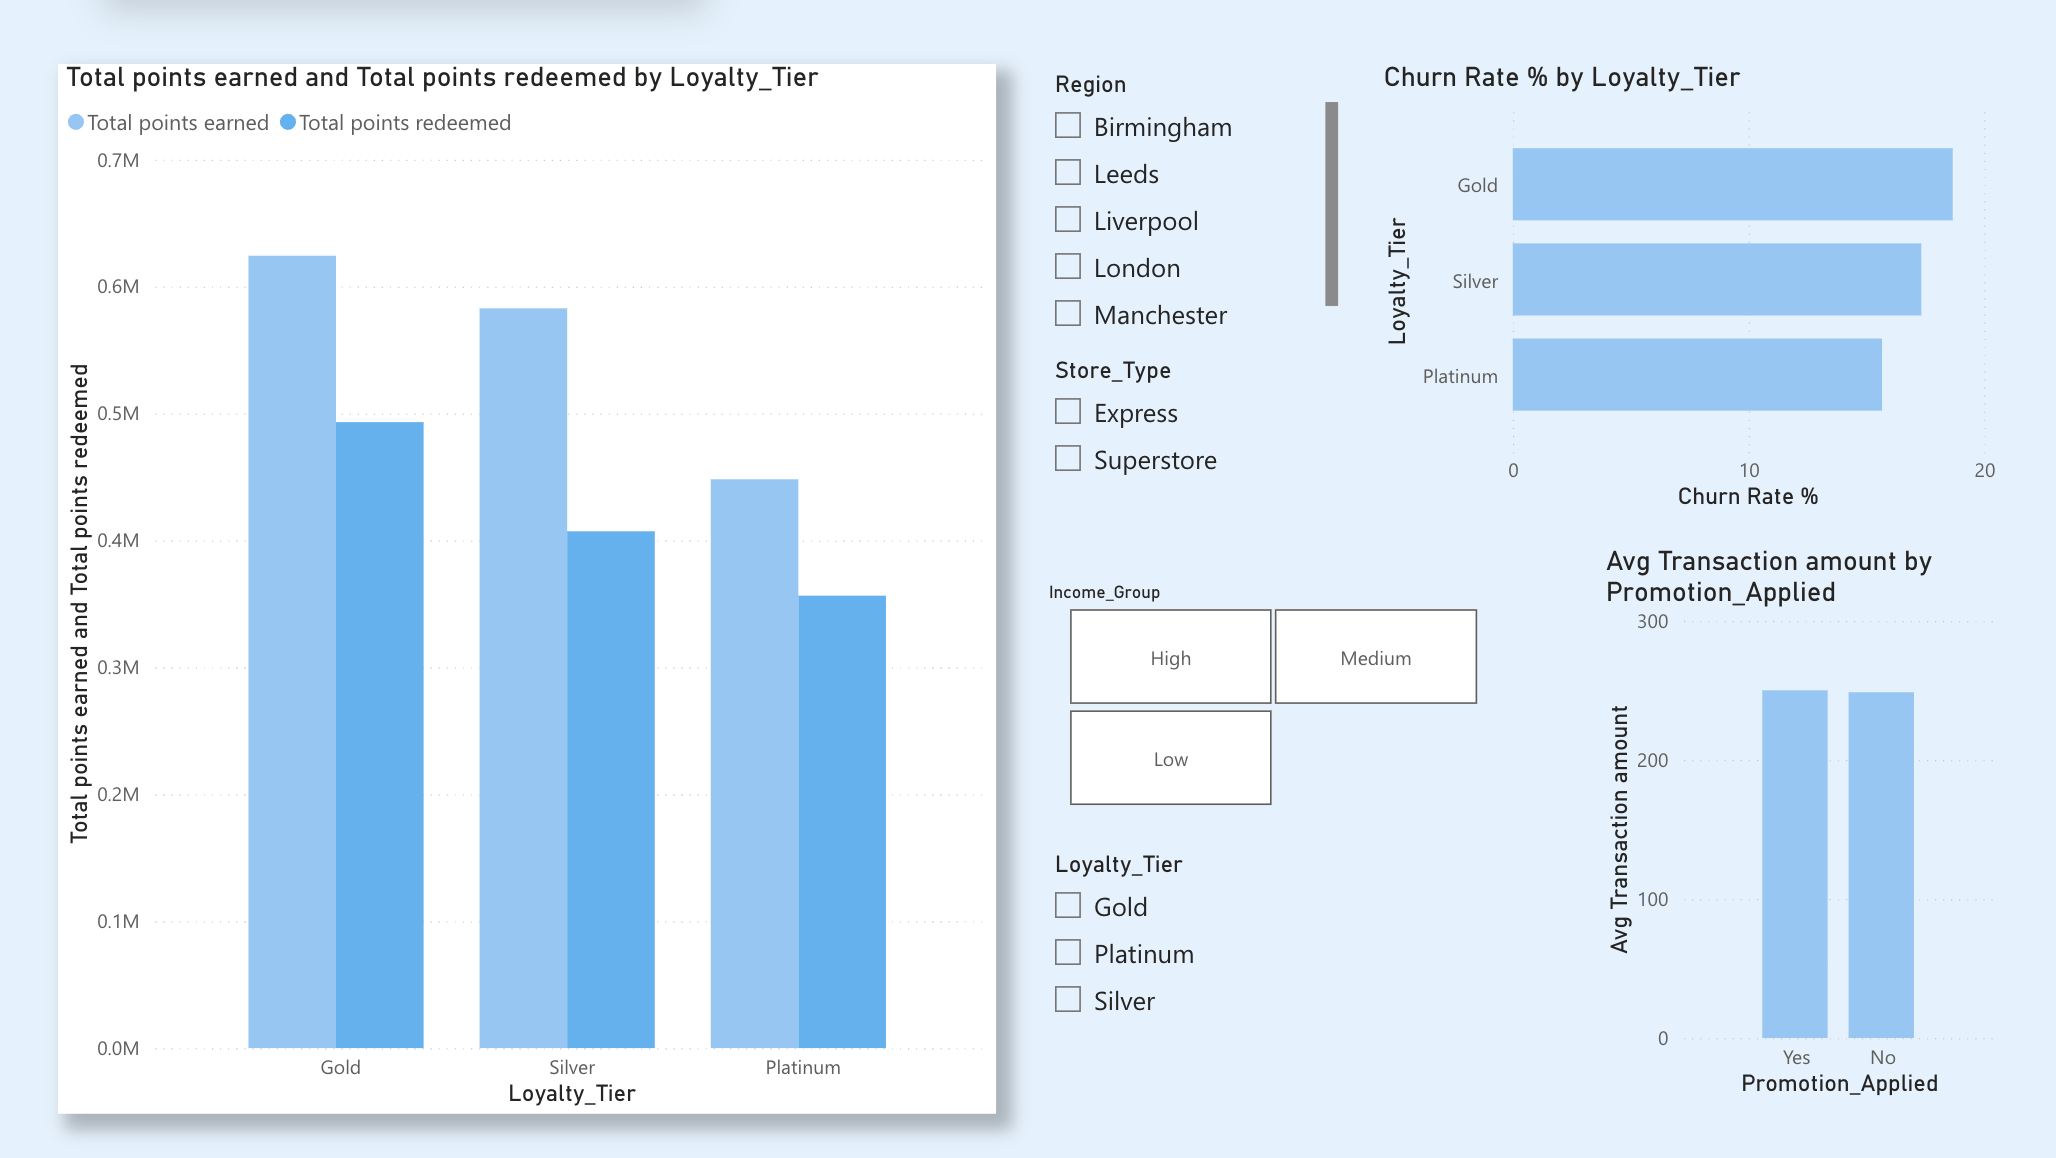

This screenshot's page, from the dashboard's own definition file:
{"tool":"powerbi","page":{"name":"Loyalty & Promotion Impact ","canvas":[1280,720],"ordinal":6},"visuals":[{"type":"clusteredColumnChart","fields":{"Y":["Sample Data.Avg Transaction amount"],"Category":["Customer_Transactions.Promotion_Applied"]},"box":[990.2,341.9,250.4,343.2],"z":0},{"type":"clusteredBarChart","fields":{"Category":["Loyalty_Program.Loyalty_Tier"],"Y":["Sample Data.Churn Rate %"]},"box":[852.9,43.2,387.7,279.6],"z":1000},{"type":"clusteredColumnChart","fields":{"Category":["Loyalty_Program.Loyalty_Tier"],"Y":["Sample Data.Total points earned","Sample Data.Total points redeemed"]},"box":[38.1,43.2,579.6,648.3],"z":2000},{"type":"slicer","fields":{"Values":["Customer_Demographics.Income_Group"]},"box":[638.1,359.7,301.3,148.7],"z":3000},{"type":"slicer","fields":{"Values":["Loyalty_Program.Loyalty_Tier"]},"box":[640.6,525,298.7,166.5],"z":4000},{"type":"slicer","fields":{"Values":["Customer_Demographics.Region"]},"box":[640.6,43.2,193.2,166.5],"z":5000},{"type":"slicer","fields":{"Values":["Store_Locations.Store_Type"]},"box":[640.6,219.9,193.2,122],"z":6000}]}

Visuals, with their boxes in screenshot pixels (x1, y1, x2, y2), scaled from the page's 1280x720 canvas onto the 2056x1158 screenshot:
clusteredColumnChart - Sample Data.Avg Transaction amount x Customer_Transactions.Promotion_Applied: x1=1591, y1=550, x2=1993, y2=1102
clusteredBarChart - Loyalty_Program.Loyalty_Tier x Sample Data.Churn Rate %: x1=1370, y1=69, x2=1993, y2=519
clusteredColumnChart - Loyalty_Program.Loyalty_Tier x Sample Data.Total points earned: x1=61, y1=69, x2=992, y2=1112
slicer - Customer_Demographics.Income_Group: x1=1025, y1=579, x2=1509, y2=818
slicer - Loyalty_Program.Loyalty_Tier: x1=1029, y1=844, x2=1509, y2=1112
slicer - Customer_Demographics.Region: x1=1029, y1=69, x2=1339, y2=337
slicer - Store_Locations.Store_Type: x1=1029, y1=354, x2=1339, y2=550
